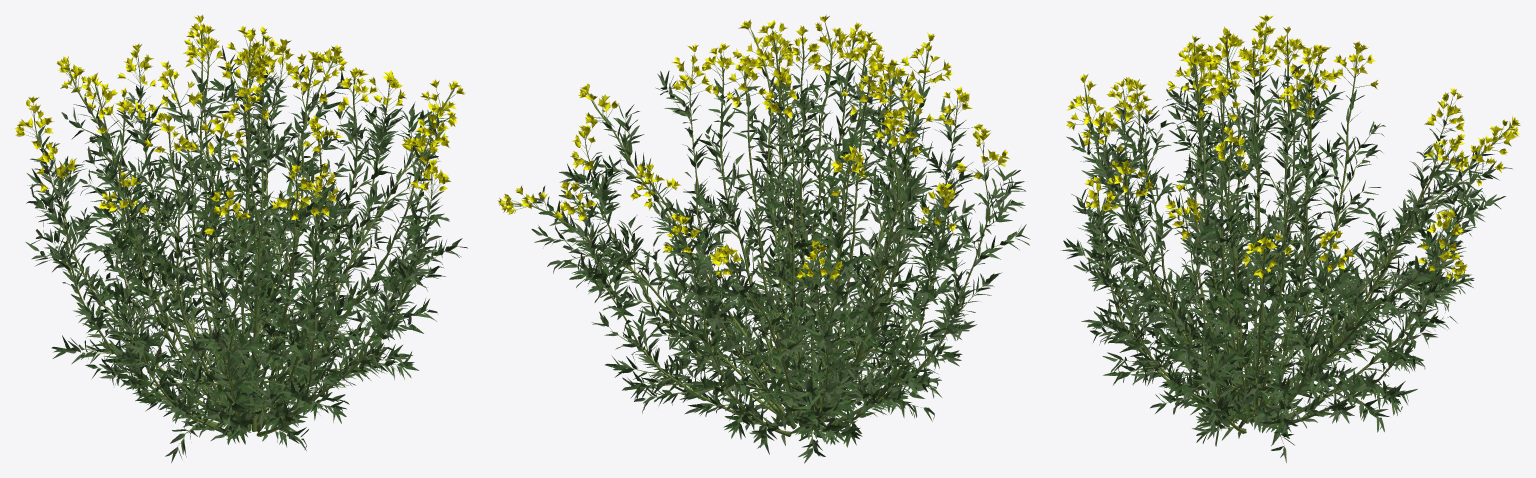
The model's file is euphorbia.glb.
3 renders of one model, left to right at view 1: azimuth 30°, elevation 25°; view 2: azimuth 150°, elevation 25°; view 3: azimuth 270°, elevation 25°, orthographic. The views are drawn at different scales.
Parts seen in each view (by area): view 1: Leaf2_EuphorbiaPalustris_Mat, Leaf1_EuphorbiaPalustris_Mat, Leaf3_EuphorbiaPalustris_Mat, Stem_EuphorbiaPalustris_Mat, Petal1_EuphorbiaPalustris_Mat, Petal2_EuphorbiaPalustris_Mat; view 2: Leaf2_EuphorbiaPalustris_Mat, Leaf1_EuphorbiaPalustris_Mat, Leaf3_EuphorbiaPalustris_Mat, Stem_EuphorbiaPalustris_Mat, Petal2_EuphorbiaPalustris_Mat, Petal1_EuphorbiaPalustris_Mat; view 3: Leaf2_EuphorbiaPalustris_Mat, Leaf1_EuphorbiaPalustris_Mat, Leaf3_EuphorbiaPalustris_Mat, Stem_EuphorbiaPalustris_Mat, Petal1_EuphorbiaPalustris_Mat, Petal2_EuphorbiaPalustris_Mat.
Boxes of the visible parts, box(x1,y1,x2,y2) form: Leaf2_EuphorbiaPalustris_Mat: box(29, 63, 455, 462); Leaf1_EuphorbiaPalustris_Mat: box(25, 66, 467, 457); Leaf3_EuphorbiaPalustris_Mat: box(26, 45, 459, 459); Stem_EuphorbiaPalustris_Mat: box(25, 22, 456, 446); Petal1_EuphorbiaPalustris_Mat: box(14, 15, 465, 235); Petal2_EuphorbiaPalustris_Mat: box(15, 14, 465, 233); Leaf2_EuphorbiaPalustris_Mat: box(538, 60, 1030, 456); Leaf1_EuphorbiaPalustris_Mat: box(531, 66, 1029, 463); Leaf3_EuphorbiaPalustris_Mat: box(533, 62, 1025, 458); Stem_EuphorbiaPalustris_Mat: box(506, 22, 1011, 447); Petal2_EuphorbiaPalustris_Mat: box(498, 14, 1006, 280); Petal1_EuphorbiaPalustris_Mat: box(501, 16, 1009, 277); Leaf2_EuphorbiaPalustris_Mat: box(1063, 60, 1500, 450); Leaf1_EuphorbiaPalustris_Mat: box(1069, 68, 1505, 462); Leaf3_EuphorbiaPalustris_Mat: box(1060, 64, 1513, 457); Stem_EuphorbiaPalustris_Mat: box(1073, 21, 1511, 445); Petal1_EuphorbiaPalustris_Mat: box(1066, 15, 1520, 278); Petal2_EuphorbiaPalustris_Mat: box(1067, 14, 1520, 281).
Bounding box in the file's own units: 0.6806 × 0.6347 × 0.6738.
Materials: 6 (6 with a texture image).
